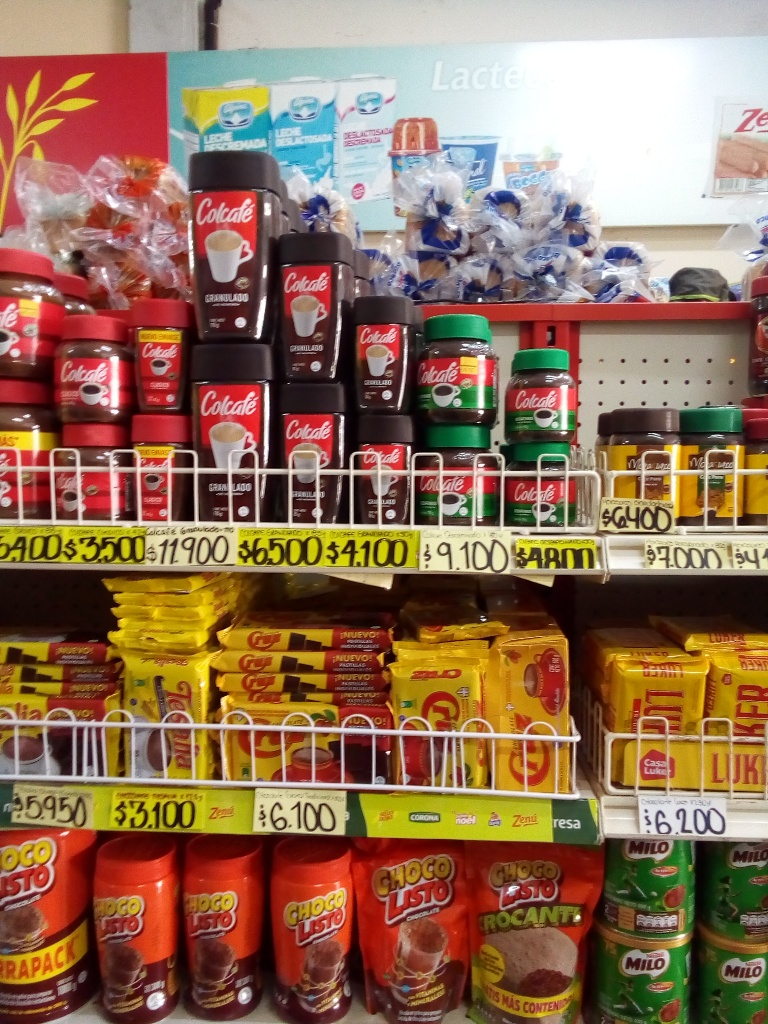COL0170103TRR00100: (1, 831, 92, 1019)
COL0170203LAT20000: (714, 844, 766, 952)
COL0170203LAT40000: (611, 836, 712, 943)
